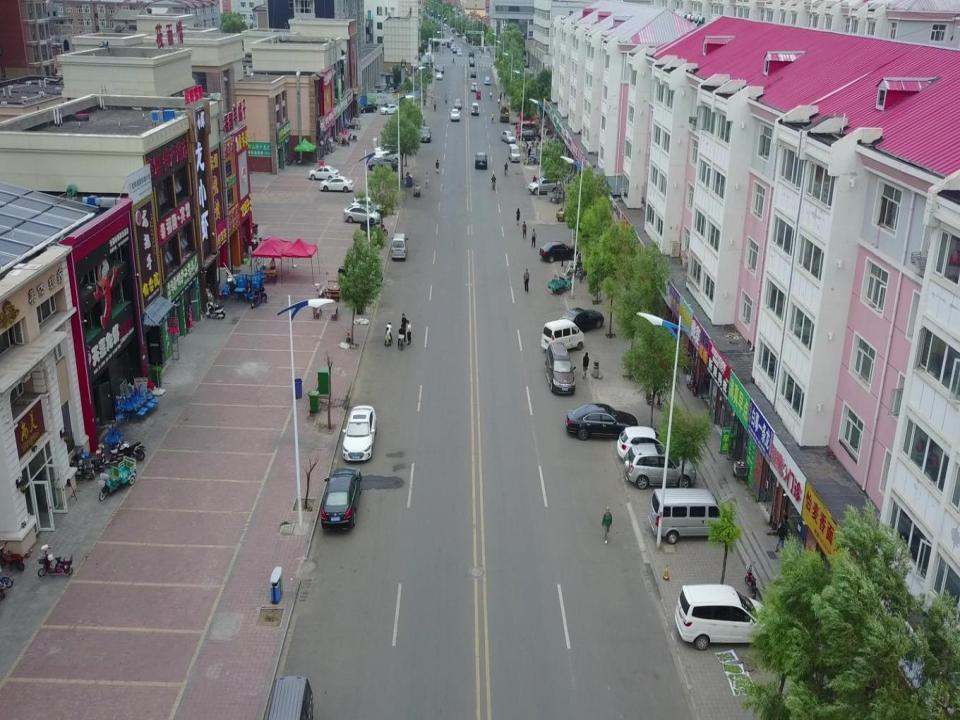car: (624, 443, 698, 487), (565, 401, 639, 442), (320, 468, 363, 531), (342, 405, 376, 462), (617, 428, 671, 460), (559, 306, 604, 334), (539, 240, 578, 263), (344, 203, 380, 225), (530, 174, 564, 196), (352, 195, 384, 214), (320, 176, 354, 193), (308, 165, 339, 180), (369, 156, 398, 172), (375, 143, 403, 159), (474, 151, 489, 171), (519, 130, 541, 142), (379, 103, 400, 114), (500, 130, 516, 143), (359, 103, 378, 113), (420, 126, 431, 143), (450, 108, 461, 121), (470, 102, 479, 115), (484, 75, 492, 86), (470, 82, 478, 92), (454, 98, 462, 108), (470, 71, 478, 79), (437, 64, 444, 73), (436, 71, 442, 81)
van: (674, 583, 782, 652), (650, 488, 729, 543), (264, 676, 313, 720), (544, 341, 577, 395), (542, 319, 584, 350), (390, 232, 410, 260), (507, 144, 520, 163)
